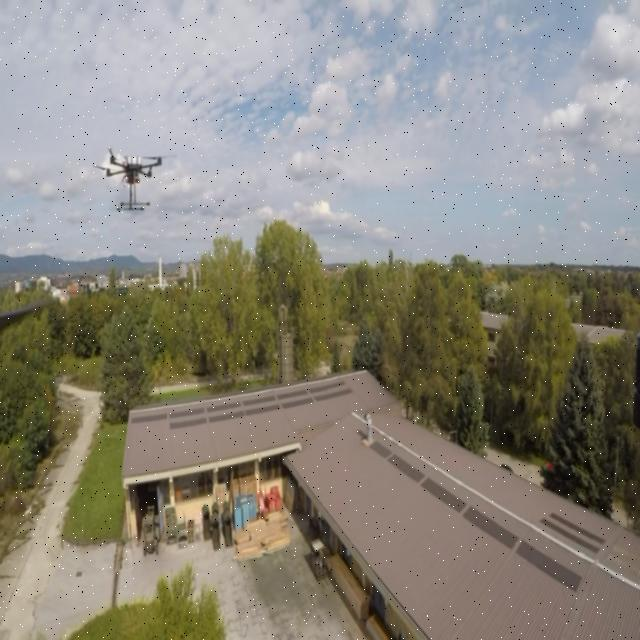UAV: (93, 137, 171, 212)
